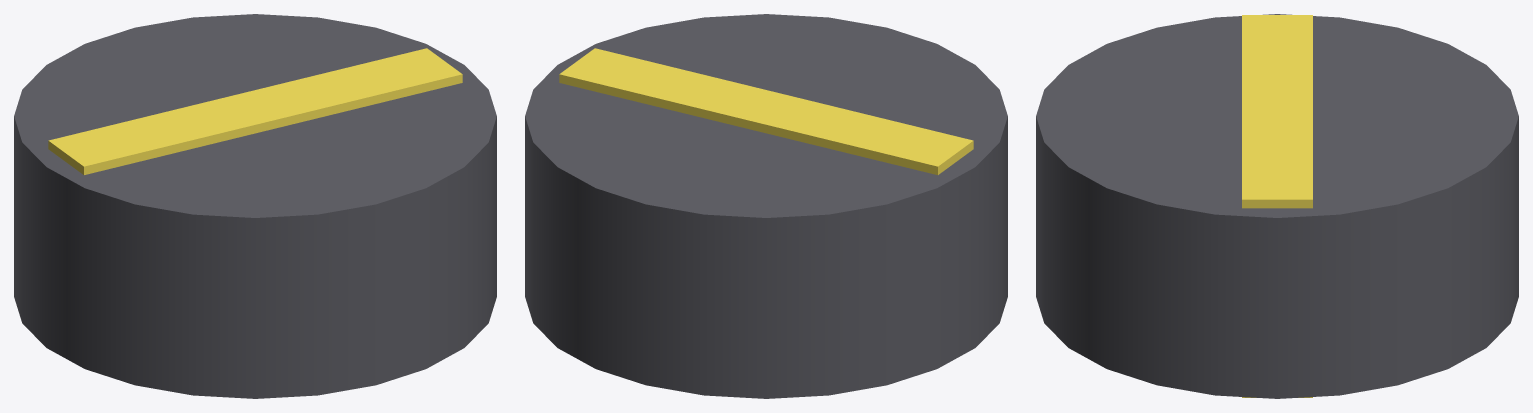
File: swerve_wheel.glb
The picture shows the model from 3 angles, left to right: view 1: azimuth 30°, elevation 25°; view 2: azimuth 150°, elevation 25°; view 3: azimuth 270°, elevation 25°; orthographic projection.
Visible parts, largest first — view 1: NOSIMPLIFY_swerve_wheel; view 2: NOSIMPLIFY_swerve_wheel; view 3: NOSIMPLIFY_swerve_wheel.
Part boxes in pixels (<box>): NOSIMPLIFY_swerve_wheel: <box>14,14,496,398</box>; NOSIMPLIFY_swerve_wheel: <box>525,14,1007,398</box>; NOSIMPLIFY_swerve_wheel: <box>1036,14,1518,398</box>.
Size of the model in its own units: 0.1016 by 0.046 by 0.1016.
